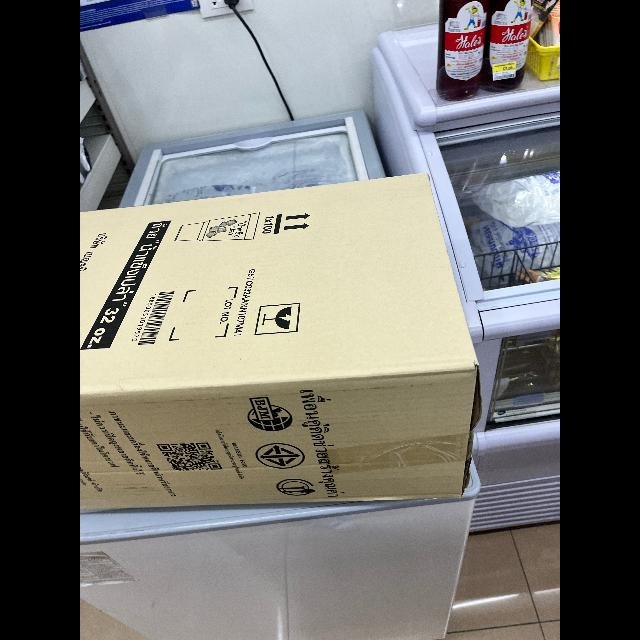cardboard_box: (80, 164, 484, 508)
